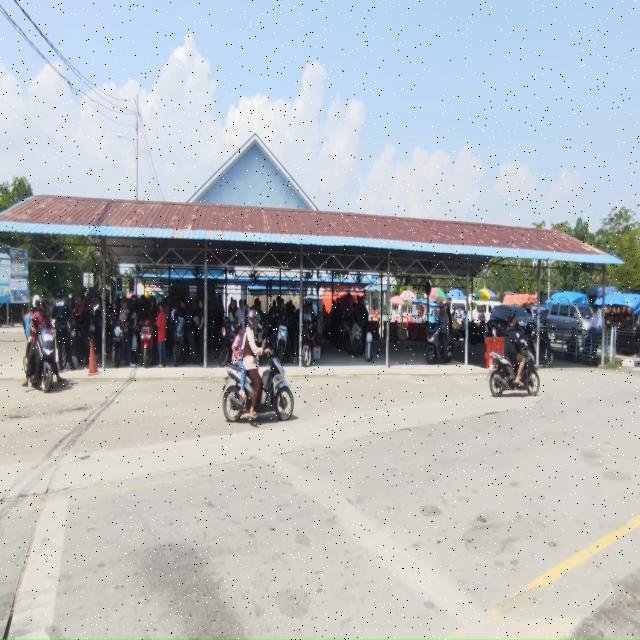Golongan II: (222, 355, 294, 422), (487, 337, 540, 397), (30, 328, 56, 392), (526, 327, 554, 368), (63, 316, 85, 365), (426, 326, 453, 364), (219, 318, 237, 367), (302, 318, 317, 367), (111, 319, 125, 368), (173, 310, 185, 367), (140, 318, 153, 368), (462, 322, 485, 345), (275, 323, 288, 363), (339, 313, 352, 352), (348, 322, 362, 357)
